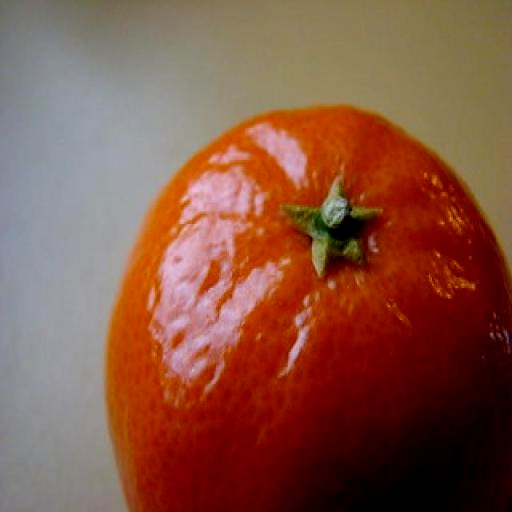fruit: (106, 108, 511, 511)
